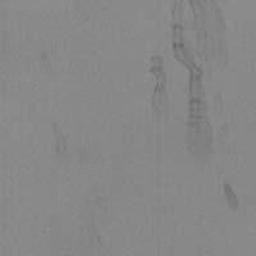Water spot: (170, 0, 248, 169), (146, 54, 175, 200), (50, 123, 69, 160), (38, 50, 58, 83), (221, 179, 239, 215), (84, 220, 102, 246)
